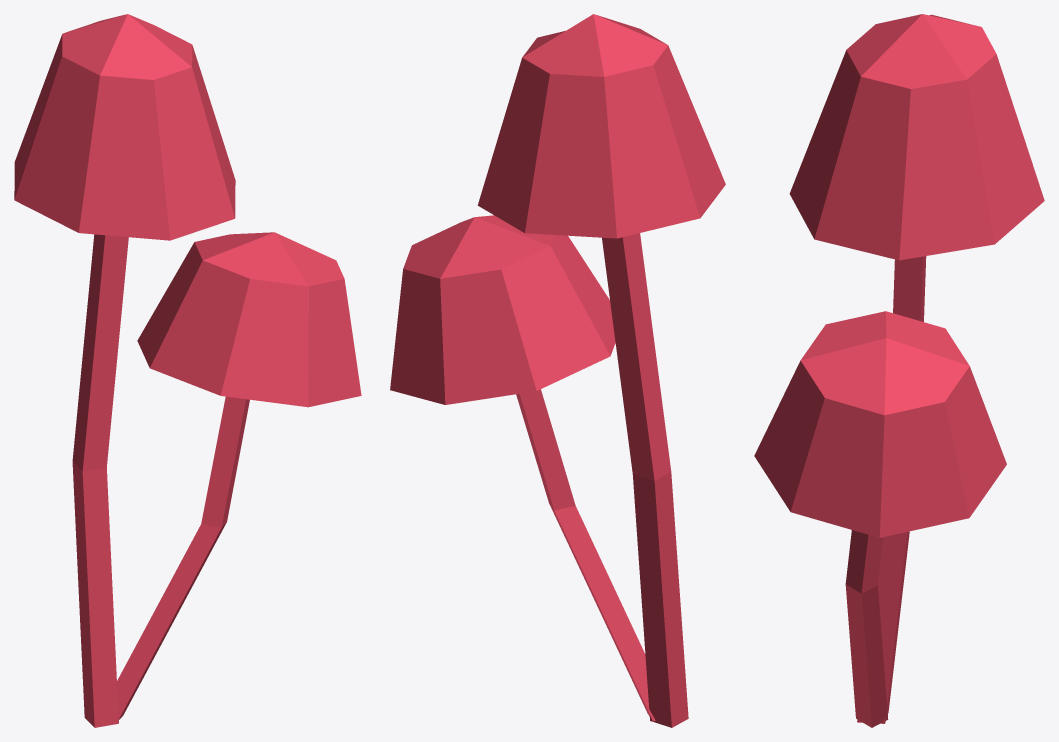
The model's file is Mushroom_c_06.fbx.
3 views of the same model, side by side, from view 1: azimuth 30°, elevation 25°; view 2: azimuth 150°, elevation 25°; view 3: azimuth 270°, elevation 25° (orthographic). The views are drawn at different scales.
Parts seen in each view (by area): view 1: Mushroom_c_06; view 2: Mushroom_c_06; view 3: Mushroom_c_06.
Boxes of the visible parts, left/top/right/bottom form: Mushroom_c_06: left=14, top=14, right=361, bottom=727; Mushroom_c_06: left=390, top=14, right=725, bottom=727; Mushroom_c_06: left=754, top=14, right=1044, bottom=727.
Size of the model in its own units: 0.1873 by 0.3925 by 0.1418.
